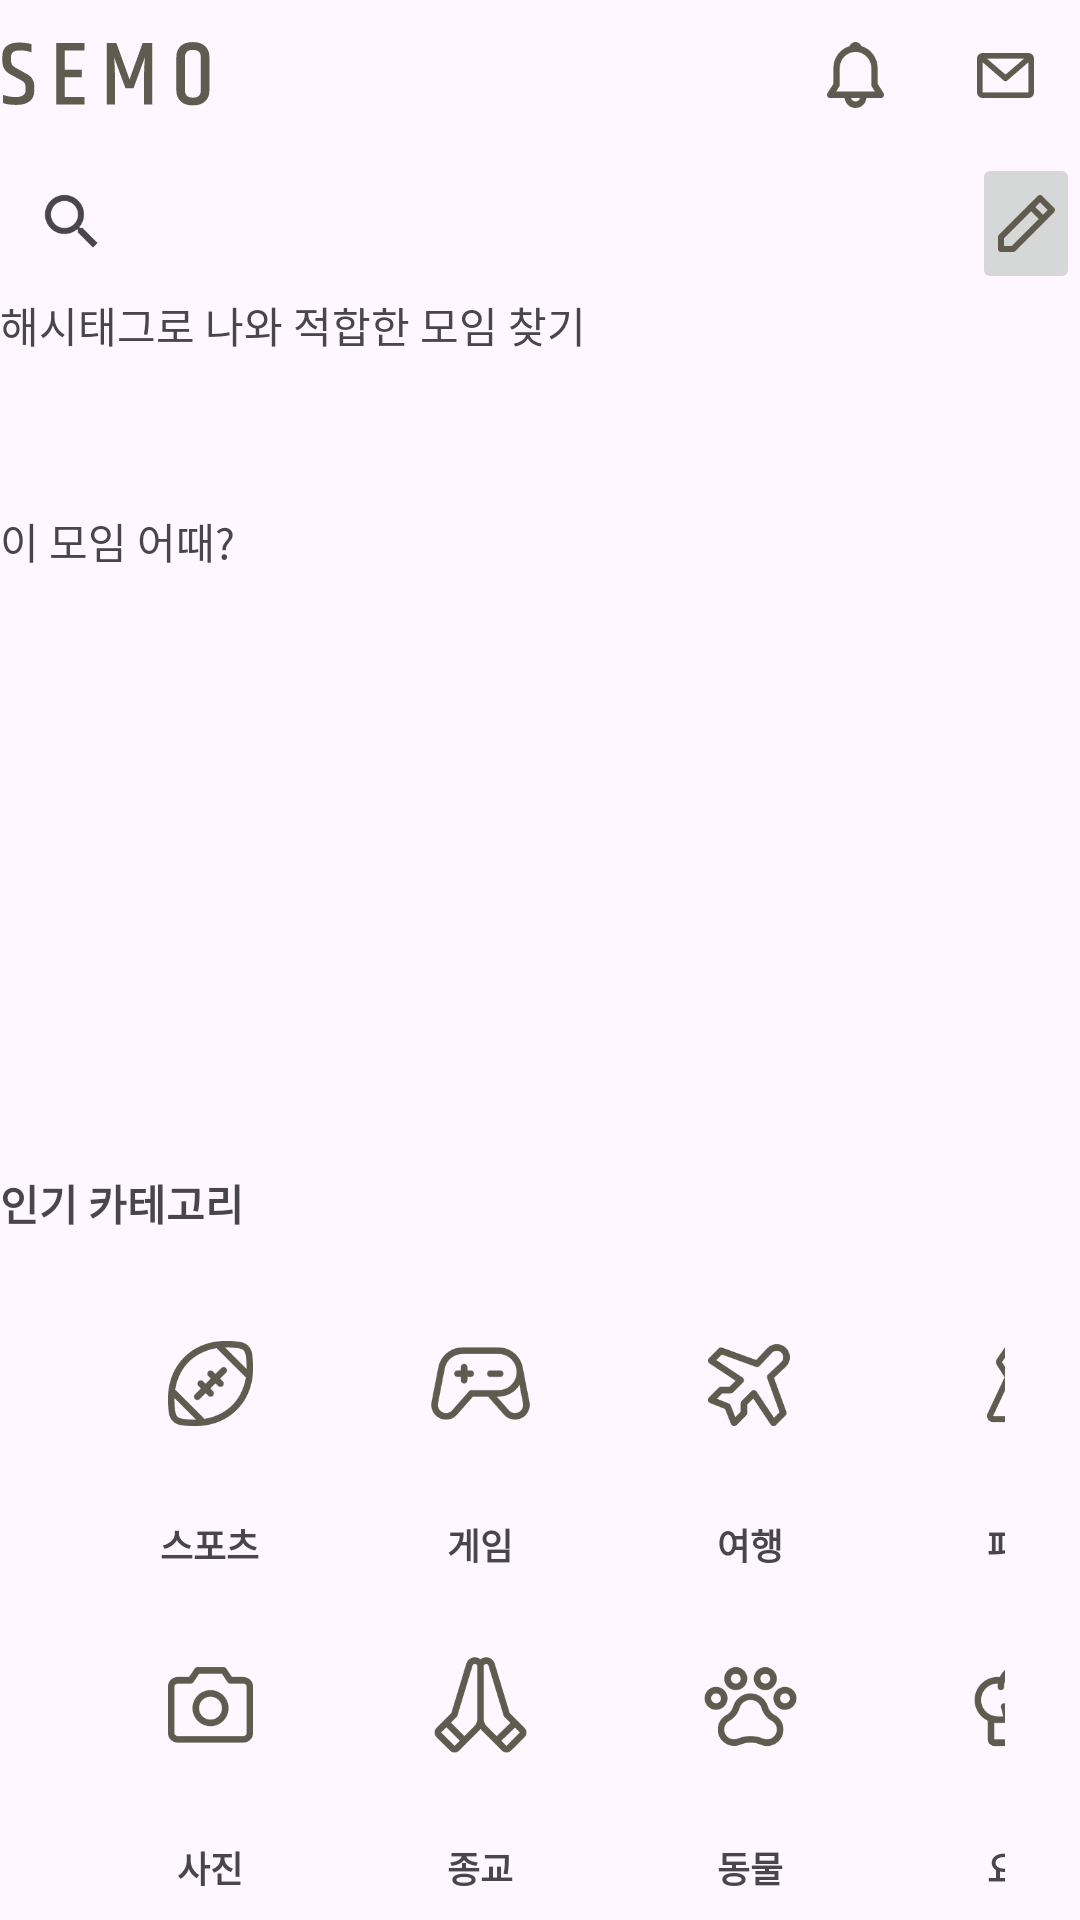

Screen size 1080 x 1920. Icon name, then its center in pixels as [x,y]:
airplane tilt: [749,1385]
camera: [210,1705]
football: [210,1383]
game controller: [480,1383]
hands praying: [480,1705]
messge: [1005,75]
notify: [855,75]
paw print: [750,1706]
rewritr: [1026,223]
